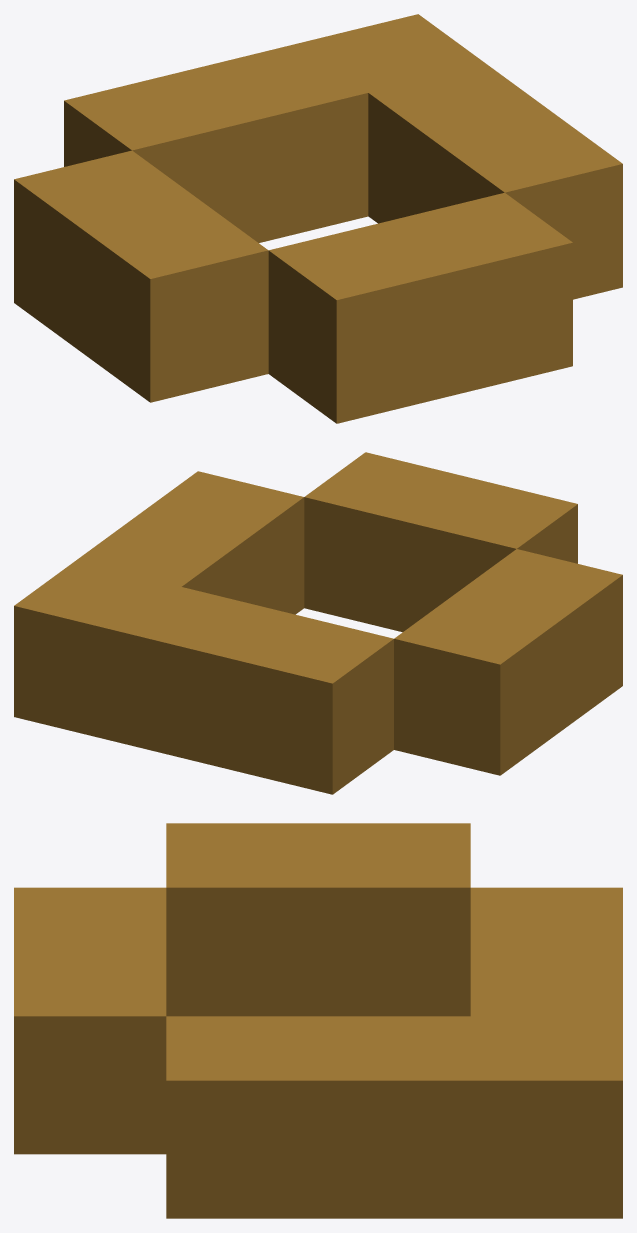
File: garnet_signet_lod1.glb
3 views of the same model, one above another, from view 1: azimuth 30°, elevation 25°; view 2: azimuth 150°, elevation 25°; view 3: azimuth 270°, elevation 25° (orthographic). The views are drawn at different scales.
Visible parts, largest first — view 1: garnet_signet_lod1; view 2: garnet_signet_lod1; view 3: garnet_signet_lod1.
Part boxes in pixels (bbox=[...]): garnet_signet_lod1: bbox=[14, 14, 622, 423]; garnet_signet_lod1: bbox=[14, 452, 622, 794]; garnet_signet_lod1: bbox=[14, 823, 622, 1218].
Bounding box in the file's own units: 0.048 × 0.012 × 0.048.
